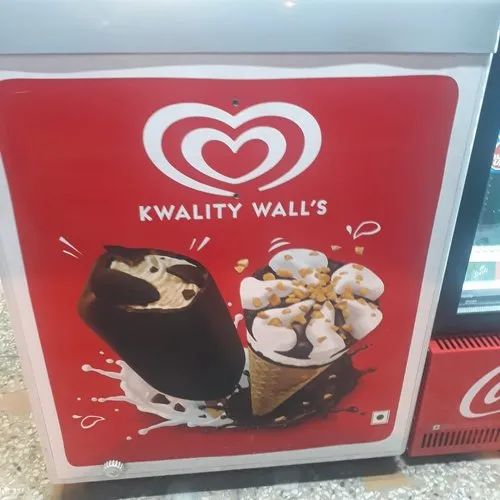Kwality_Walls: (140, 89, 319, 204)
